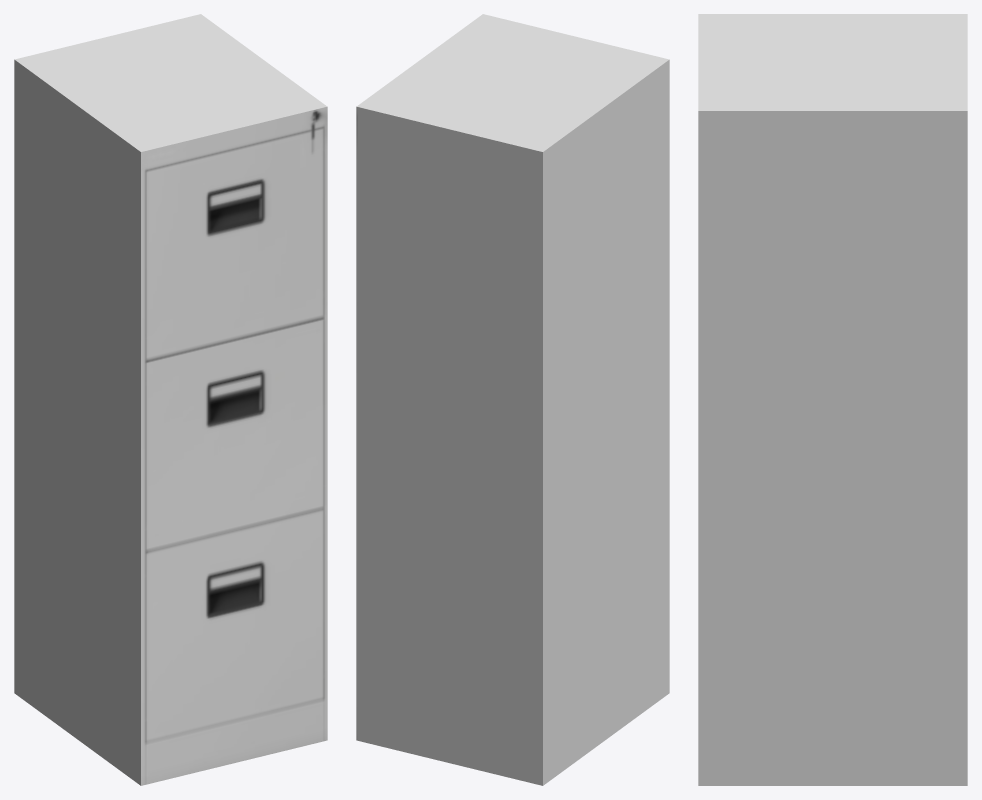
Rendered from szafka.glb.
3 views of the same model, side by side, from view 1: azimuth 30°, elevation 25°; view 2: azimuth 150°, elevation 25°; view 3: azimuth 270°, elevation 25° (orthographic). The views are drawn at different scales.
Visible parts, largest first — view 1: biurko.071; view 2: biurko.071; view 3: biurko.071.
Boxes of the visible parts, box(x1,y1,x2,y2) form: biurko.071: box(14, 14, 327, 785); biurko.071: box(356, 14, 669, 785); biurko.071: box(698, 14, 967, 785).
Size of the model in its own units: 1.31 by 4.25 by 1.54.
1 material, 1 textured.
